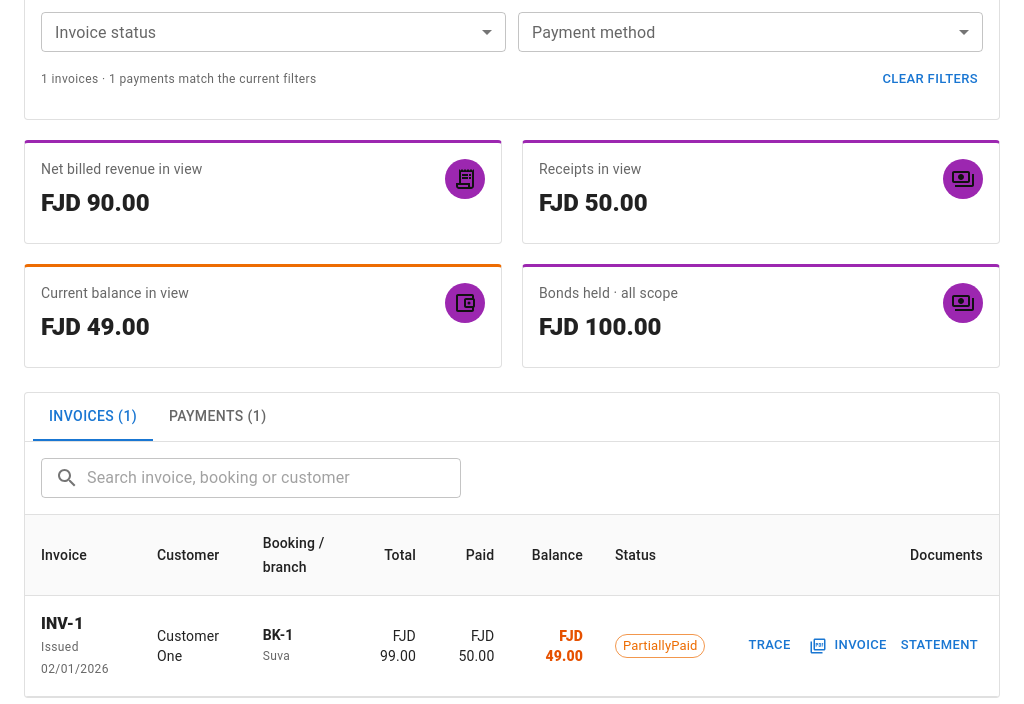
reports invoice download and reconciliation errors
(page scrolled)
Expected: the text "INV-1" is shown, [41,614,84,633]
Click the button "Invoice".
click(849, 646)  # box [806,630,892,661]
(page scrolled)
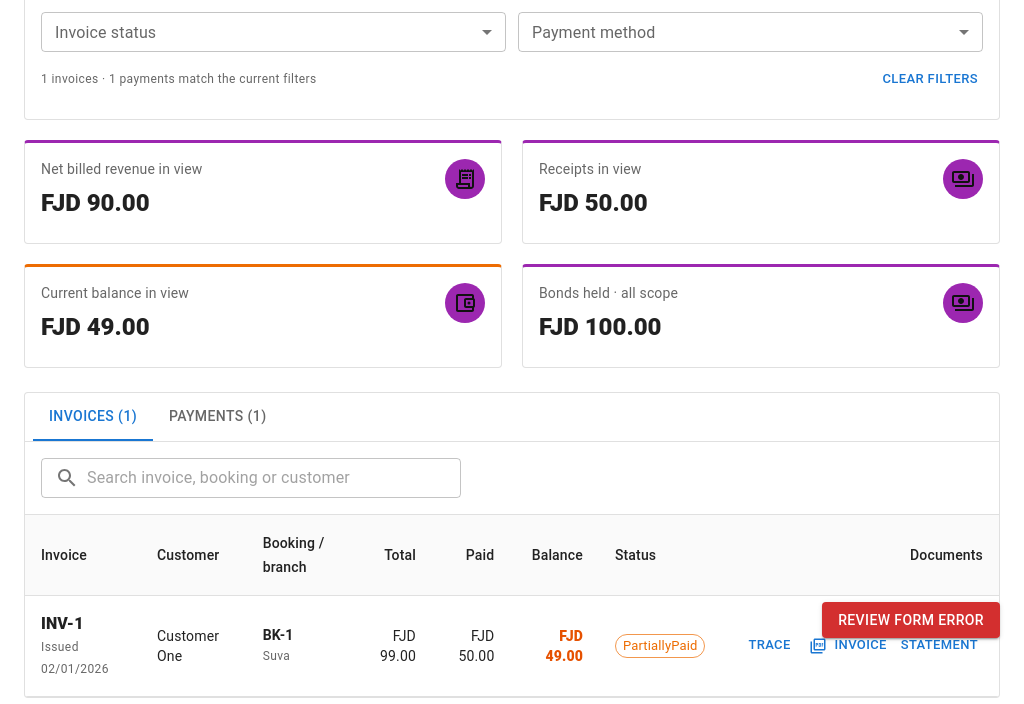
Click the button "Trace".
click(770, 646)  # box [738,630,802,661]
(page scrolled)
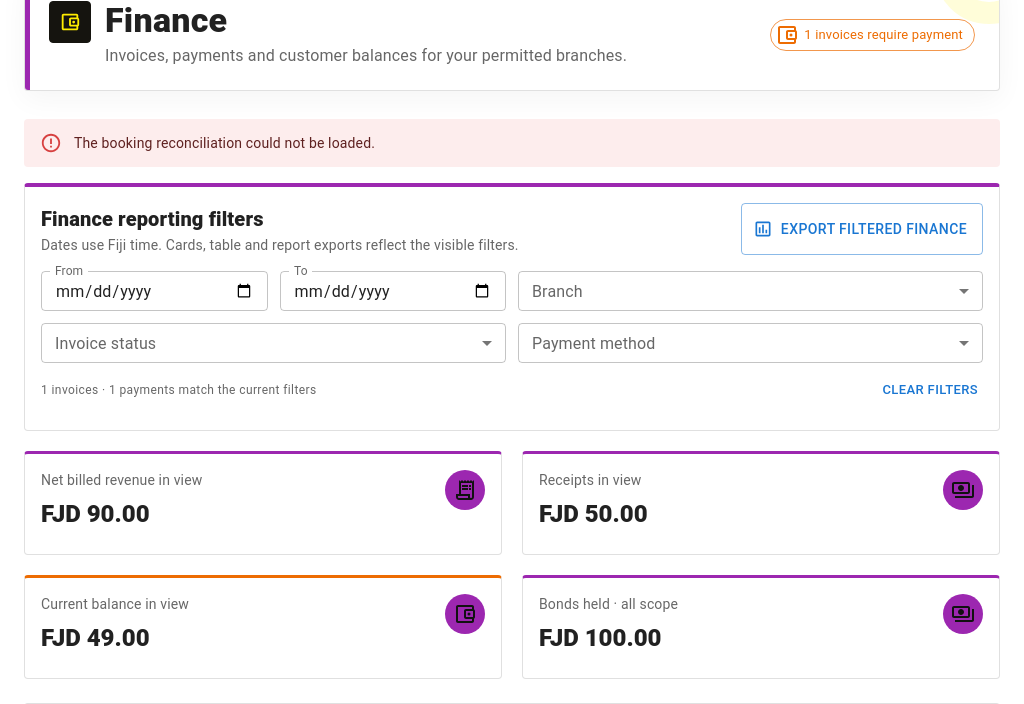
Now the text "The booking reconciliation could not be loaded." is shown, box [74,133,375,153]
